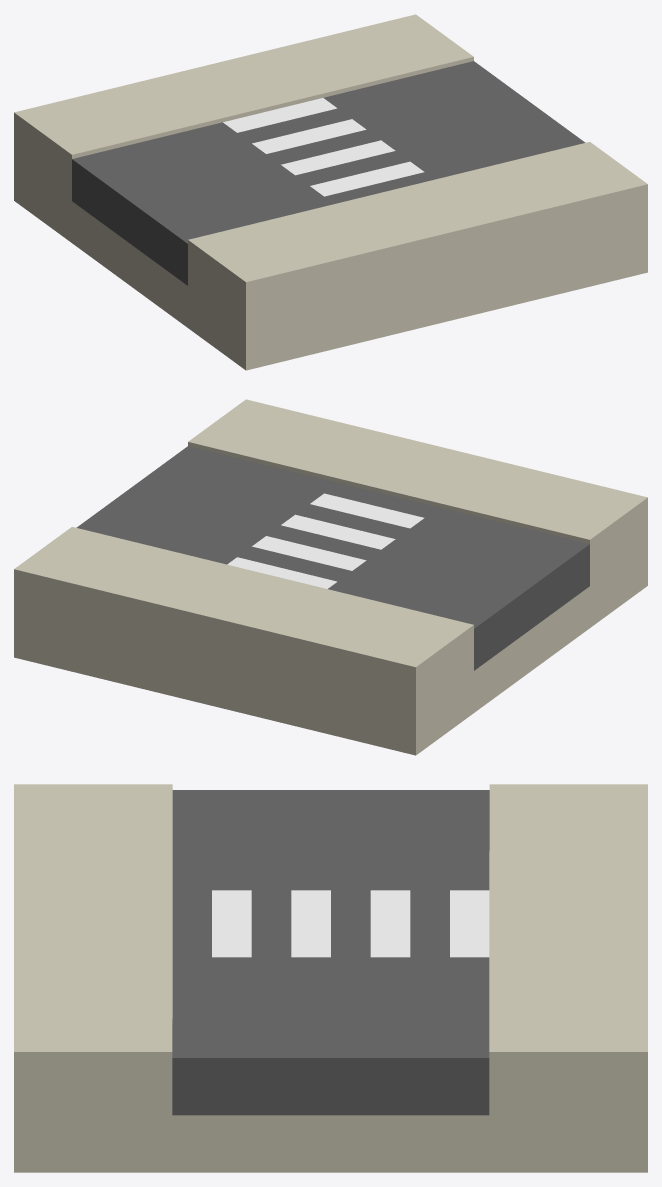
File: tile026.obj
The picture shows the model from 3 angles, top to bottom: view 1: azimuth 30°, elevation 25°; view 2: azimuth 150°, elevation 25°; view 3: azimuth 270°, elevation 25°; orthographic projection. The views are drawn at different scales.
Parts seen in each view (by area): view 1: tile026; view 2: tile026; view 3: tile026.
Boxes of the visible parts, x1,y1,x2,y2 form: tile026: (14, 14, 647, 370); tile026: (14, 399, 647, 755); tile026: (14, 784, 647, 1172).
Size of the model in its own units: 1 by 0.21 by 1.
